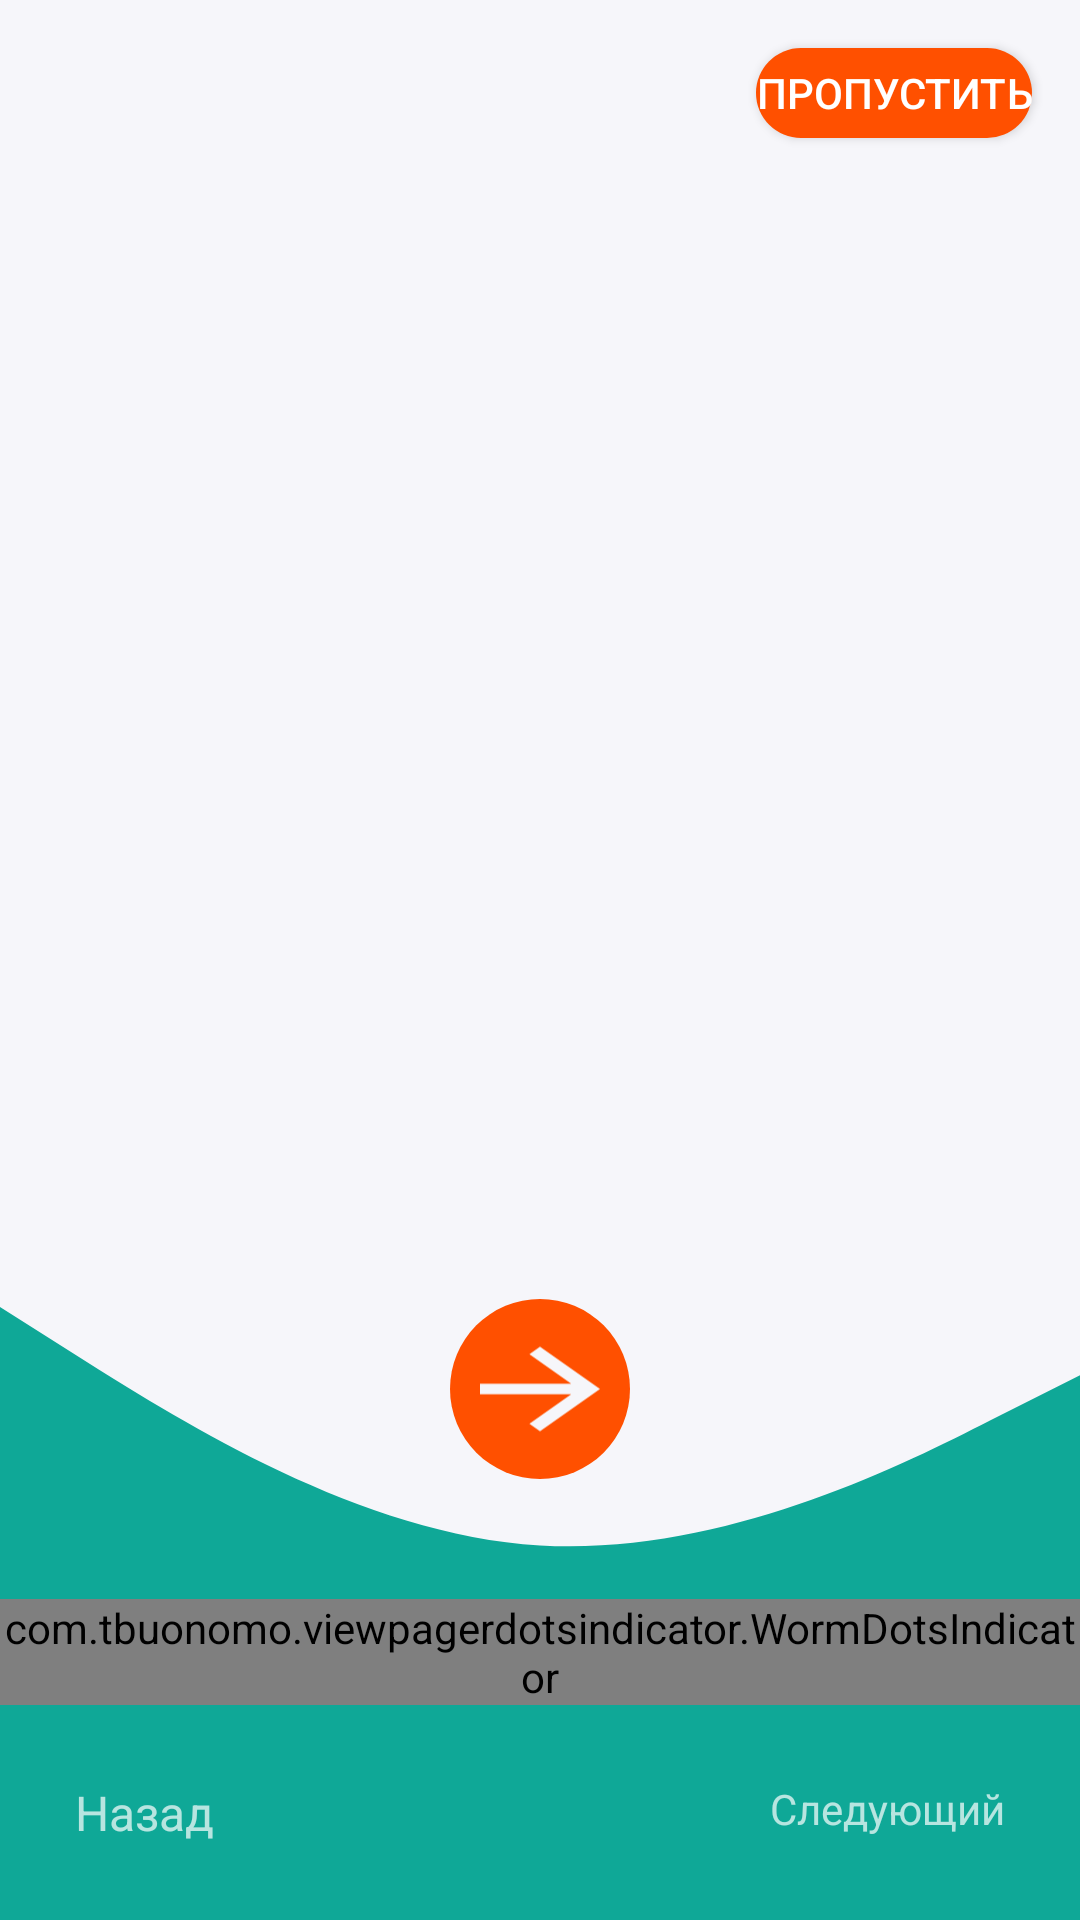

Where icons sit on this 1080w x 1920h app screen, as {"left": x1, "top": y1, "right": x2, "bottom": y2}:
arrow forward: {"left": 450, "top": 1299, "right": 630, "bottom": 1479}
